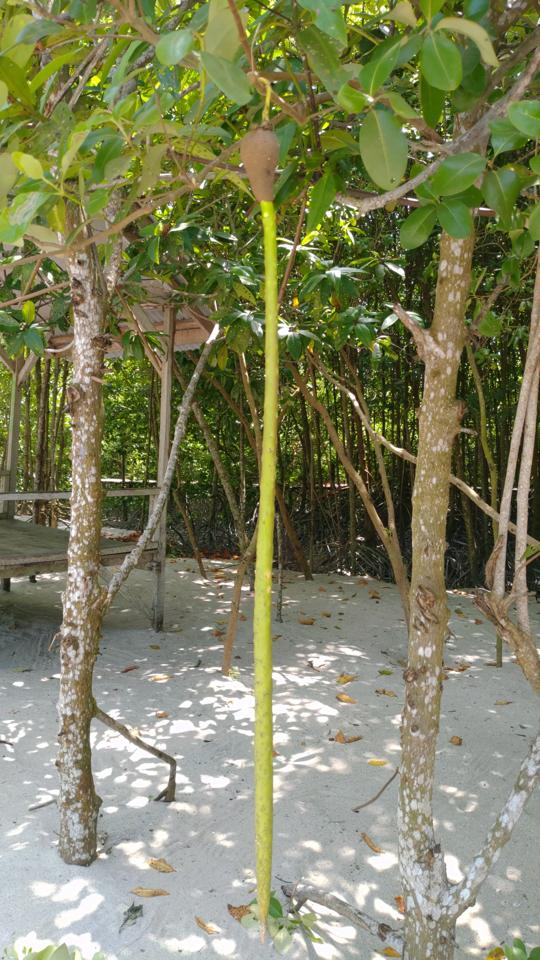mentah: (230, 114, 301, 938)
